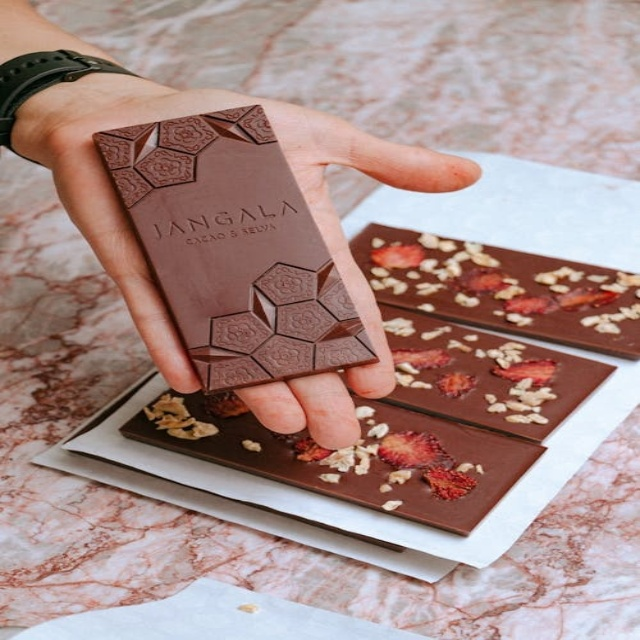Sin_guantes: (0, 0, 473, 445)
